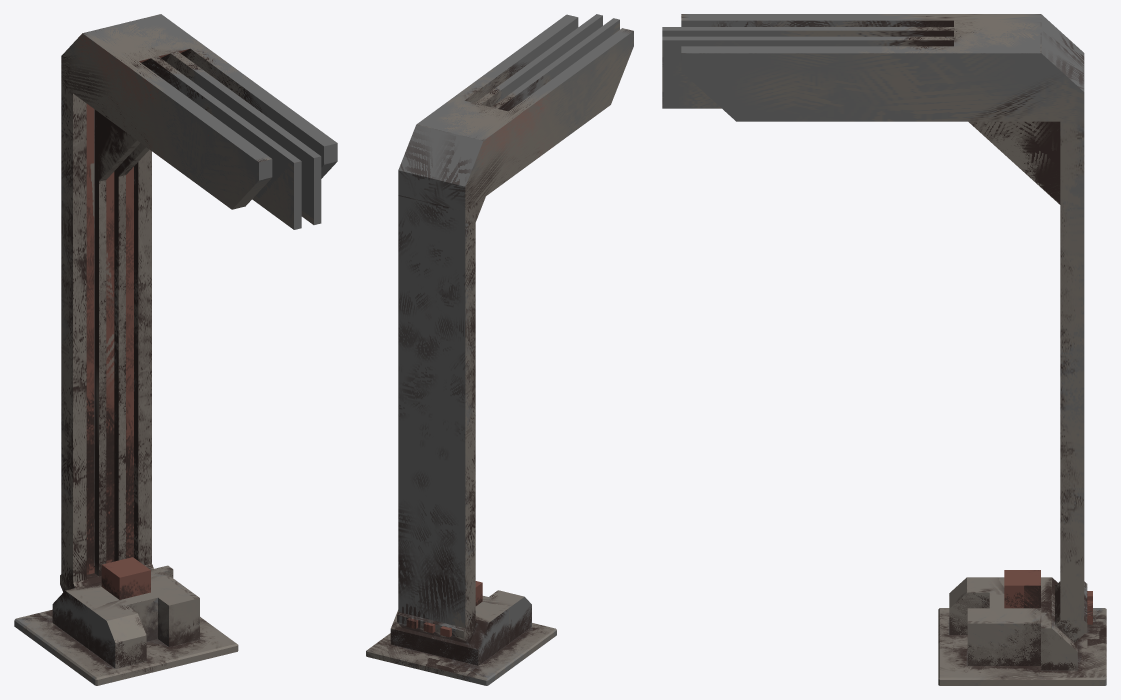
3 renders of one model, left to right at view 1: azimuth 30°, elevation 25°; view 2: azimuth 150°, elevation 25°; view 3: azimuth 270°, elevation 25°, orthographic. The views are drawn at different scales.
Parts seen in each view (by area): view 1: 1x1C; view 2: 1x1C; view 3: 1x1C.
Part boxes in pixels (<box>): 1x1C: <box>14,14,337,685</box>; 1x1C: <box>366,14,633,685</box>; 1x1C: <box>662,14,1106,685</box>.
Size of the model in its own units: 1 by 4.06 by 2.64.
Materials: 2 (2 with a texture image).
